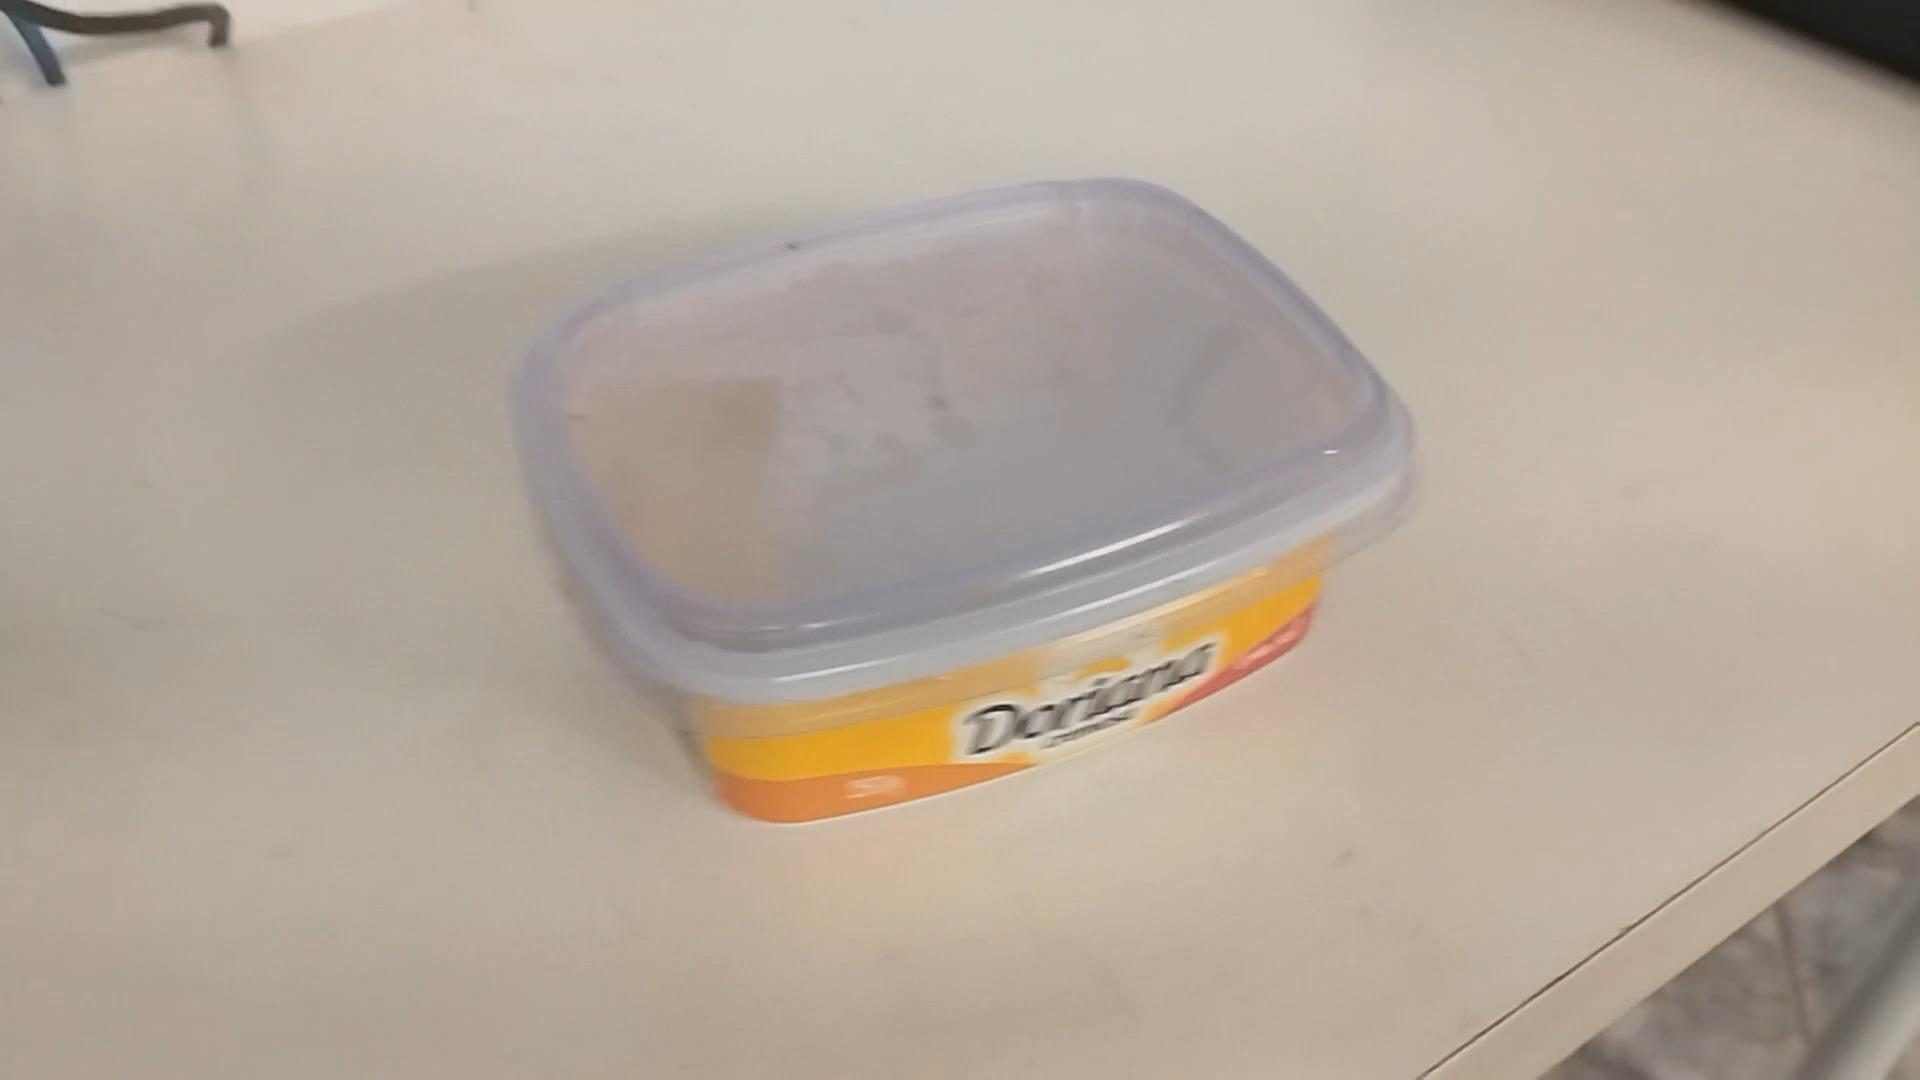butter: (506, 186, 1414, 833)
